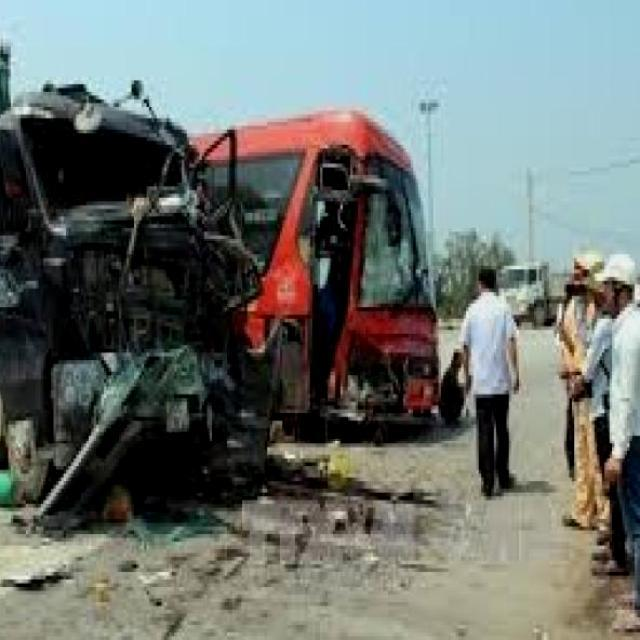accident: (0, 53, 450, 508)
